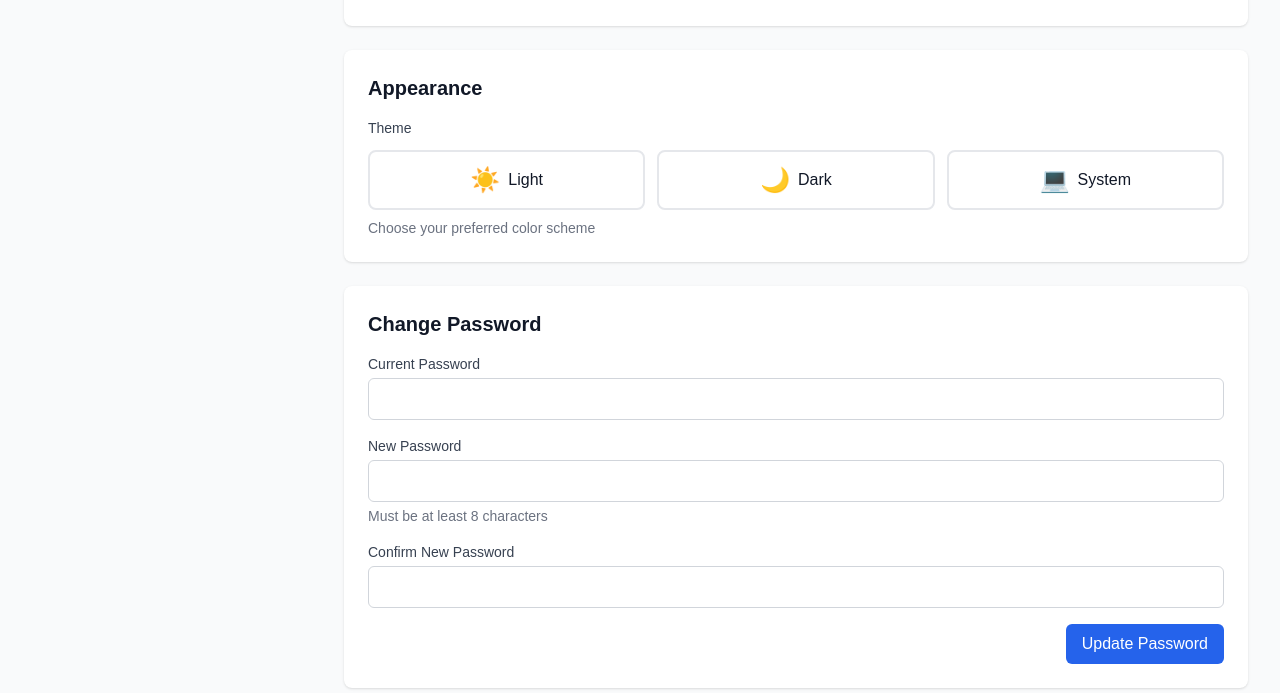
Settings Page › shows error when passwords do not match
The image size is (1280, 693).
(page scrolled)
Step 1. Type "oldpassword" into the password field labelled "Current Password" → [796, 399], box 368,378 -> 1224,420
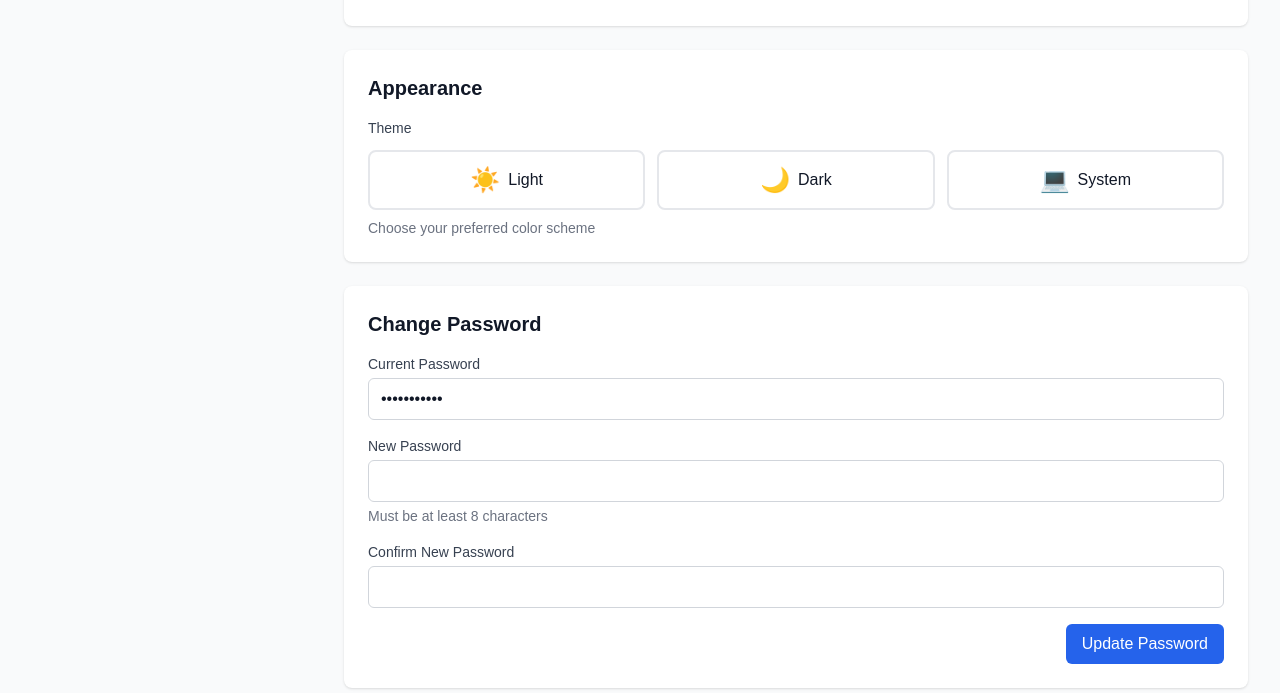
Step 2. Type "newpassword123" into the password field labelled "New Password" → [796, 481], box 368,460 -> 1224,502
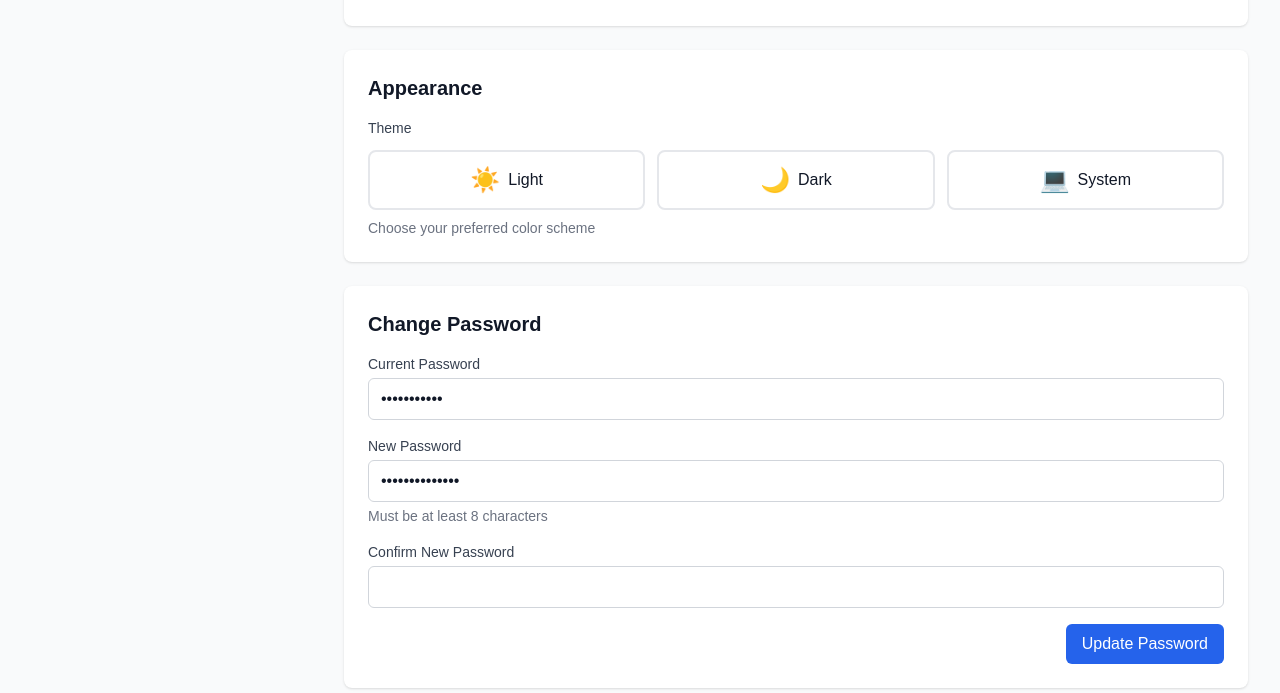
Step 3. Type "differentpassword" into the password field labelled "Confirm New Password" → [796, 587], box 368,566 -> 1224,608
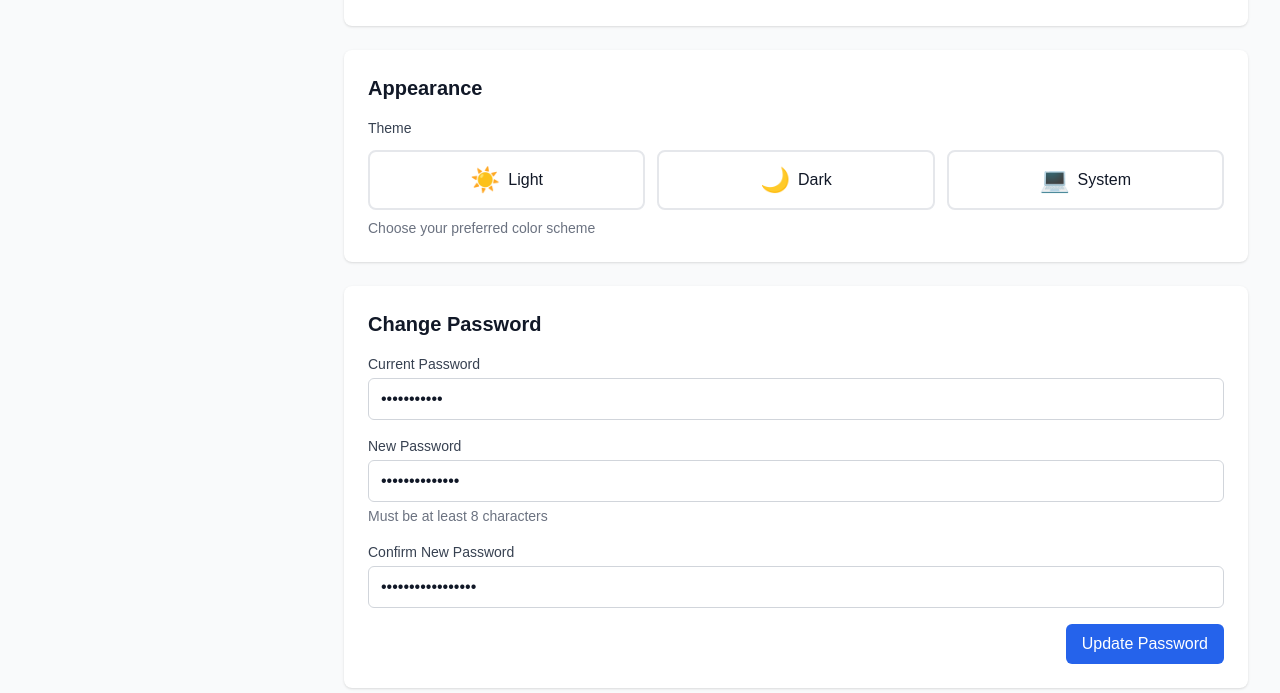
Step 4. Click the button "Update Password" → [1145, 644], box 1066,624 -> 1224,664
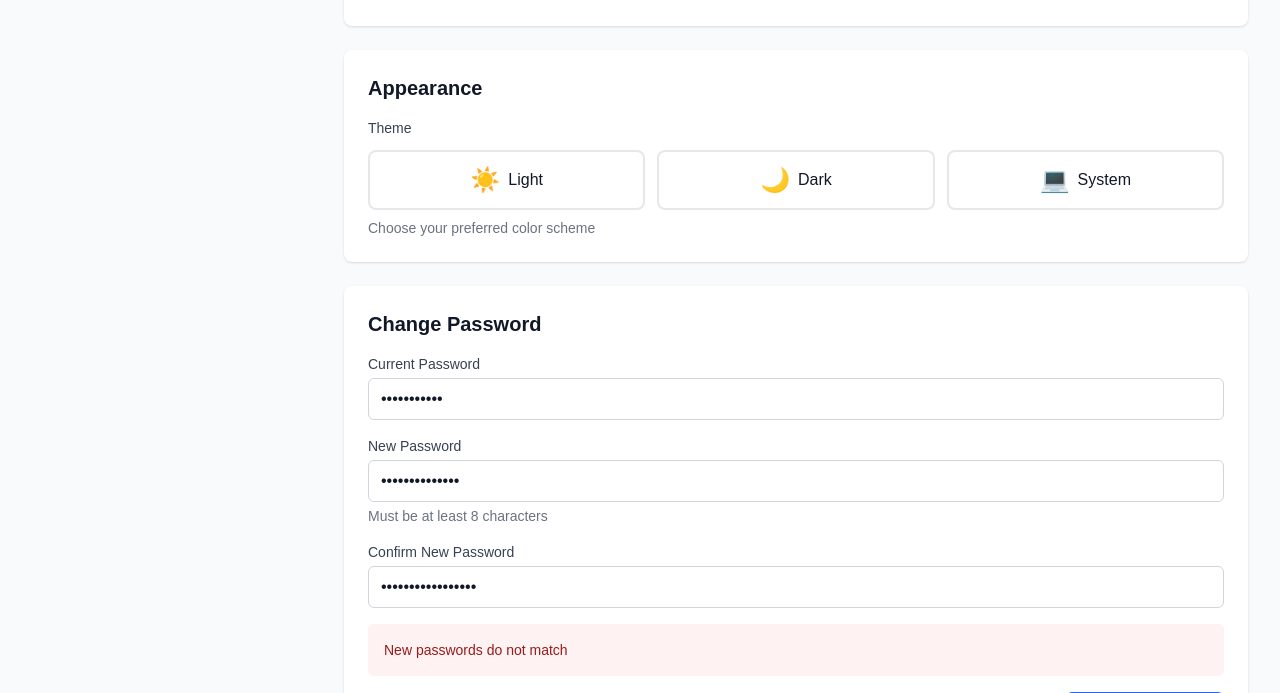
Check: the text "New passwords do not match" is shown, box 384,642 -> 568,658
